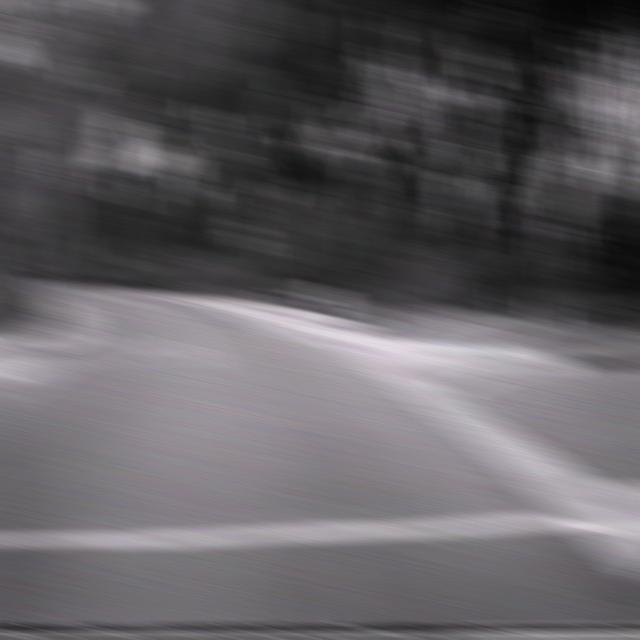stop_sign: (542, 158, 580, 222)
